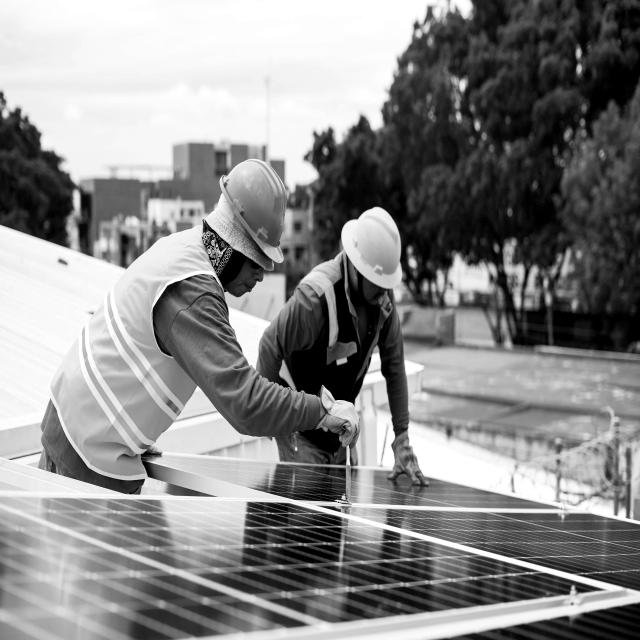No-Vest: (297, 260, 390, 442)
Vest: (51, 222, 220, 484)
